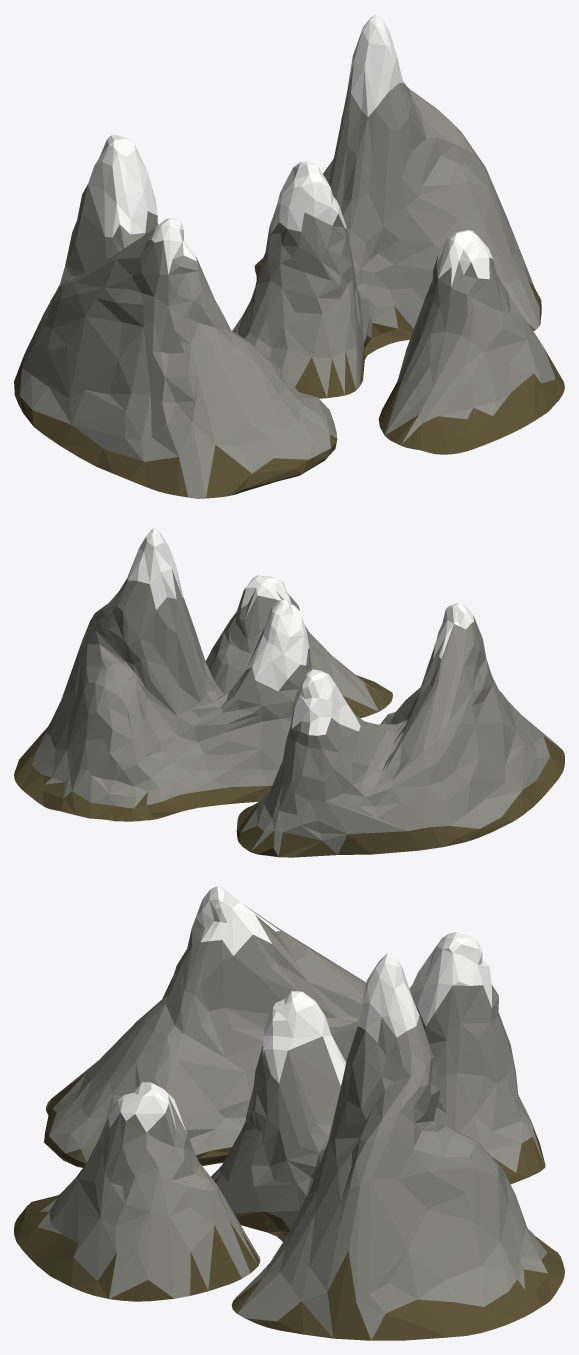
Rendered from Mountains.glb.
3 views of the same model, one above another, from view 1: azimuth 30°, elevation 25°; view 2: azimuth 150°, elevation 25°; view 3: azimuth 270°, elevation 25° (orthographic). The views are drawn at different scales.
Parts seen in each view (by area): view 1: Mountain_Group_1; view 2: Mountain_Group_1; view 3: Mountain_Group_1.
Part boxes in pixels (x1=…): Mountain_Group_1: x1=14, y1=14, x2=564, y2=498; Mountain_Group_1: x1=14, y1=527, x2=564, y2=857; Mountain_Group_1: x1=14, y1=886, x2=564, y2=1340.
Bounding box in the file's own units: 4.59 × 2.49 × 3.84.
